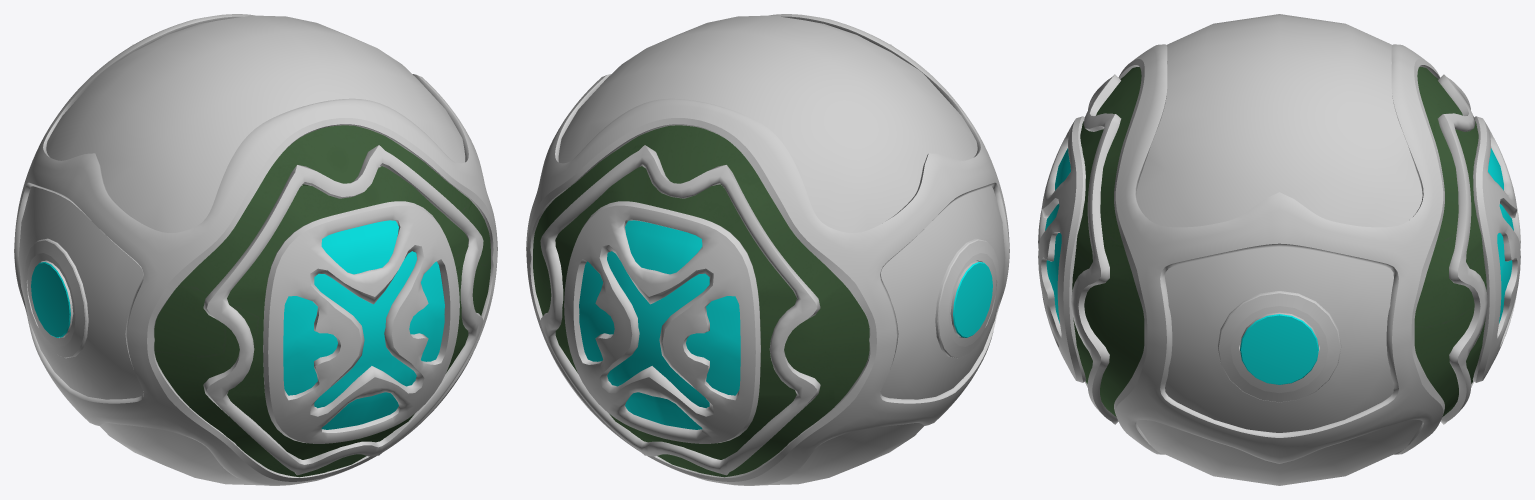
The model's file is Ball_arena_02.fbx.
The picture shows the model from 3 angles, left to right: view 1: azimuth 30°, elevation 25°; view 2: azimuth 150°, elevation 25°; view 3: azimuth 270°, elevation 25°; orthographic projection.
Visible parts, largest first — view 1: Ball_arena_02; view 2: Ball_arena_02; view 3: Ball_arena_02.
Part boxes in pixels (<box>): Ball_arena_02: <box>14,14,497,485</box>; Ball_arena_02: <box>526,14,1009,485</box>; Ball_arena_02: <box>1038,14,1520,485</box>.
Bounding box in the file's own units: 1440 × 1410 × 1444.
